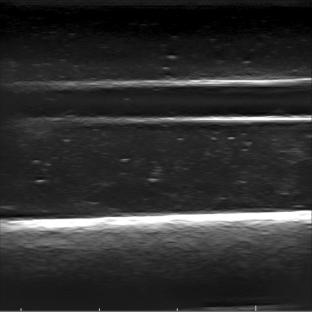vessel: (11, 76, 308, 126)
